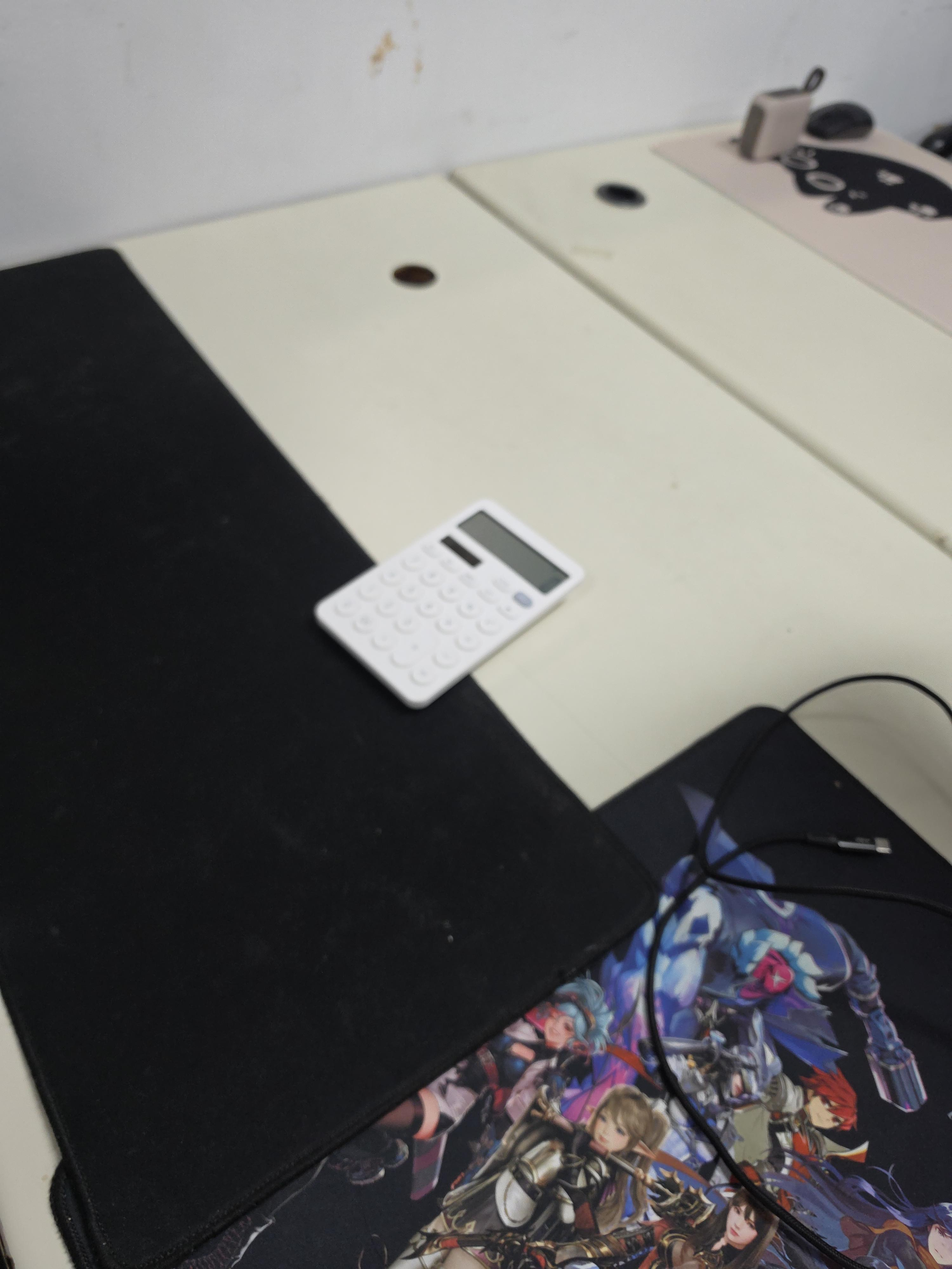calculator: (313, 497, 586, 711)
